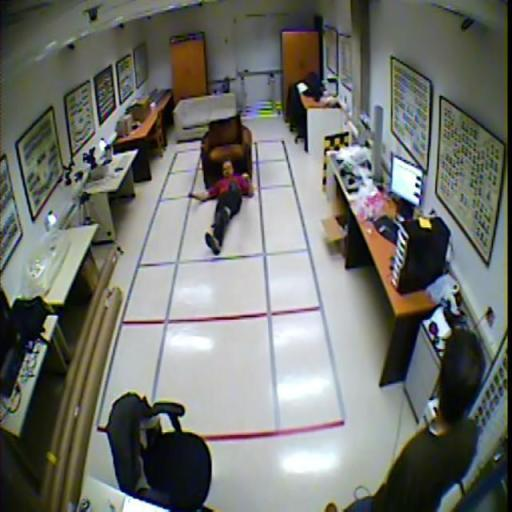Fall: (188, 158, 254, 255)
